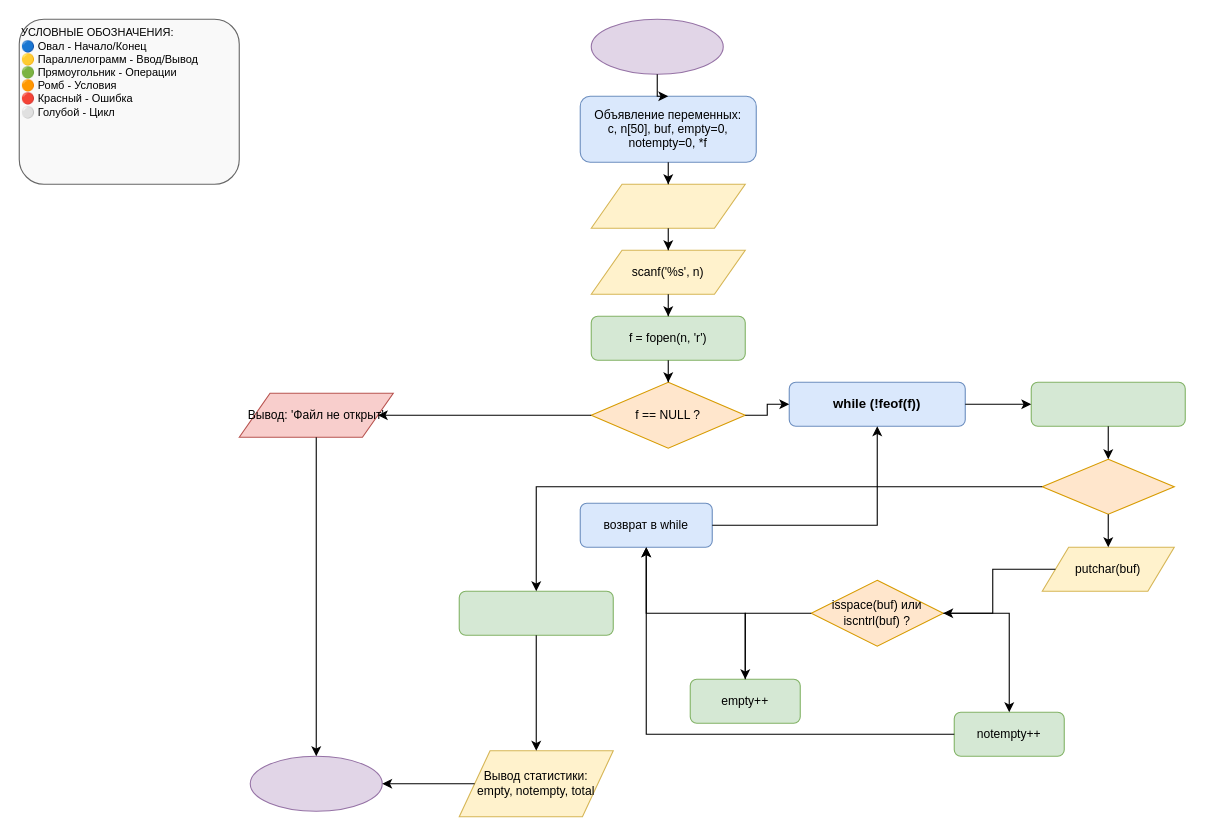
Image size: 1205x836. Some labels were removed from this diagram. Each missing label, with the centre of its shape:
!feof(f) ?: point 1107,486
buf = getc(f): point 1107,403
fclose(f): point 535,612
Вывод: 'Введите имя файла:': point 667,205
КОНЕЦ: point 315,783
НАЧАЛО: point 656,46
